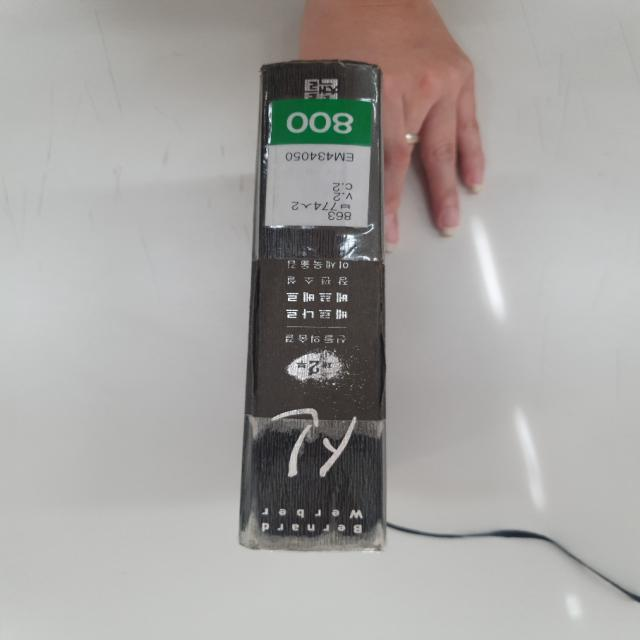Ripped: (236, 261, 272, 411), (372, 265, 398, 421)
